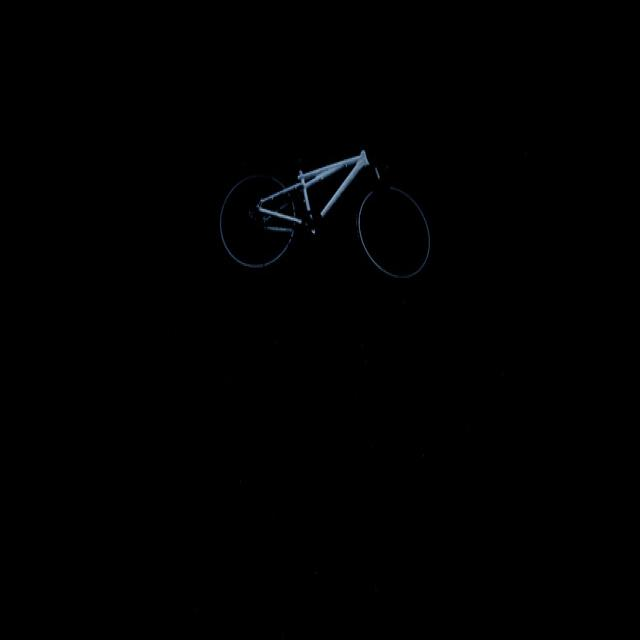Bicycle: (221, 122, 475, 311)
